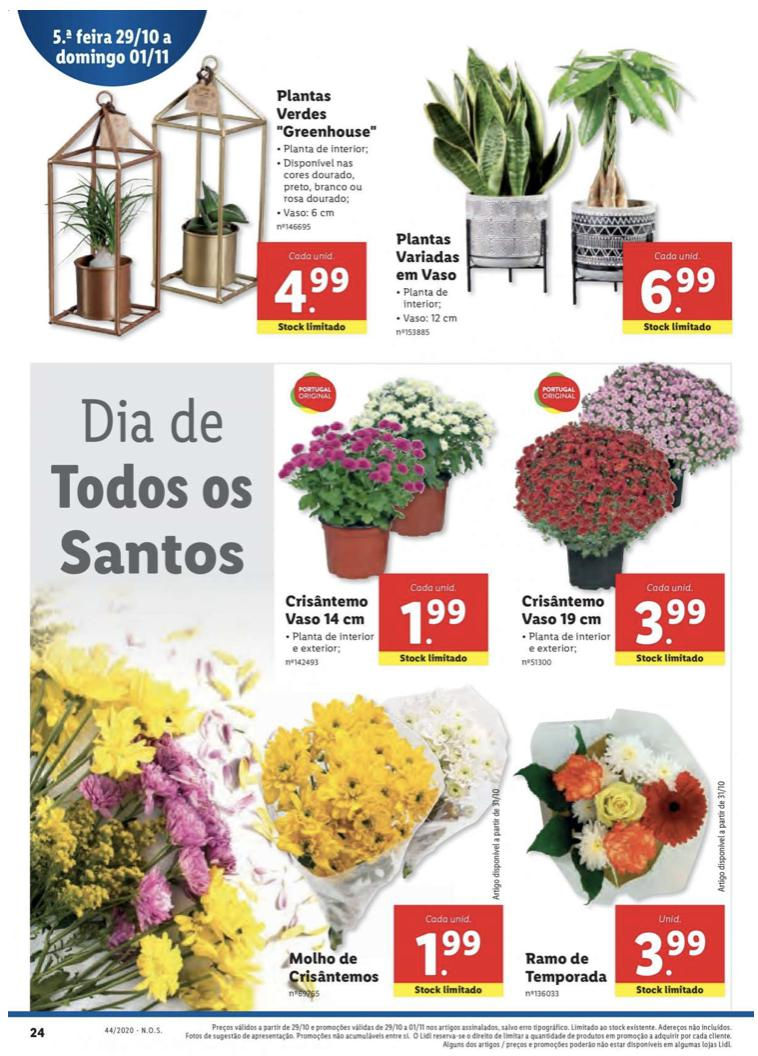name: (275, 84, 379, 142), (283, 946, 384, 991), (388, 229, 464, 286), (280, 590, 373, 630), (523, 948, 613, 987), (518, 591, 610, 629)
price: (623, 596, 713, 652), (634, 266, 722, 323), (629, 925, 713, 979), (275, 263, 352, 321), (394, 594, 472, 645), (417, 927, 487, 978)
product: (18, 50, 385, 341), (381, 46, 742, 341), (269, 683, 516, 1013), (272, 354, 512, 680), (512, 363, 746, 680), (518, 696, 742, 1005)
